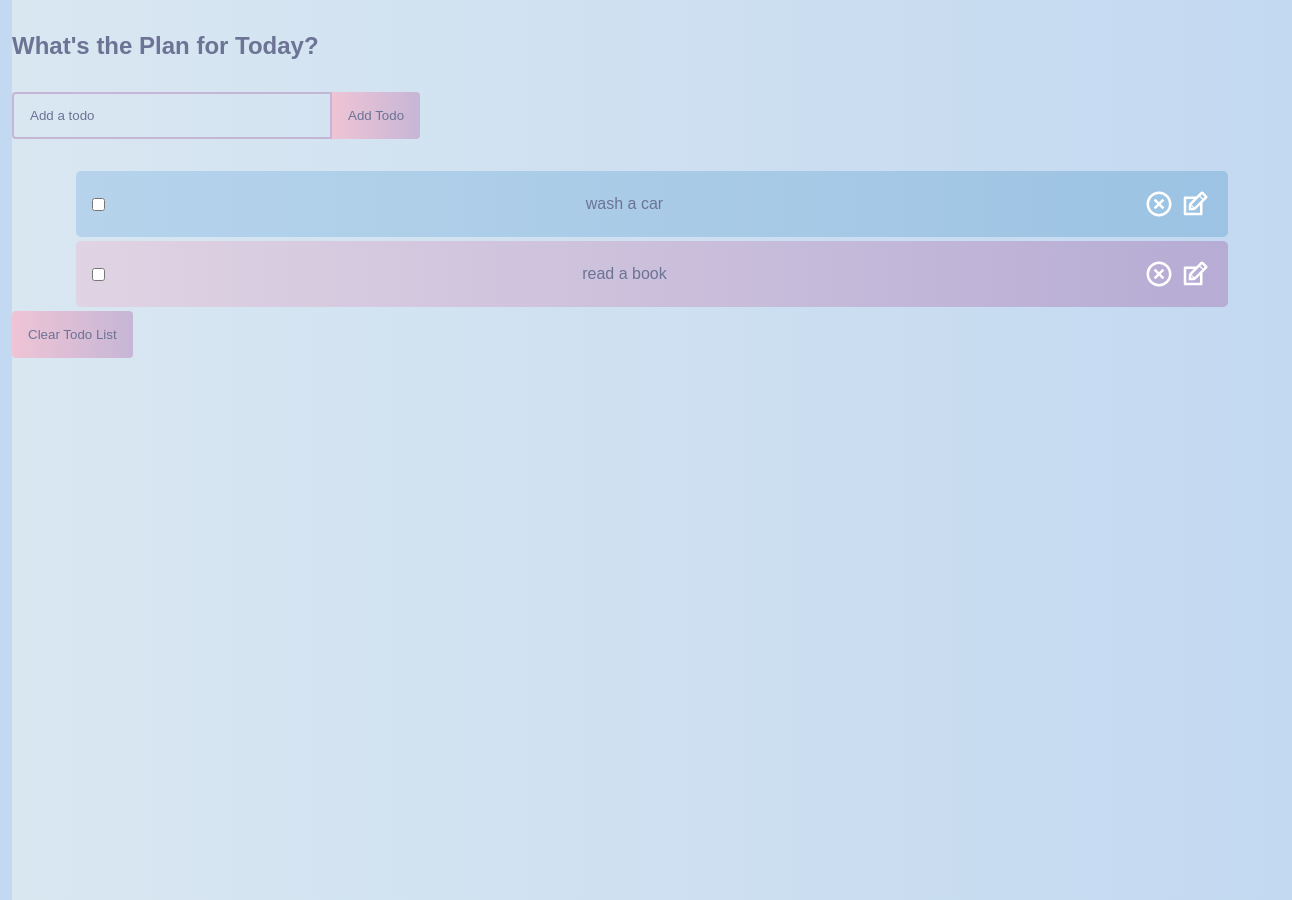
Edit existing task
Click the button named "edit" in the row of "wash a car" at x=1195, y=204, box left=1178, top=187, right=1212, bottom=221
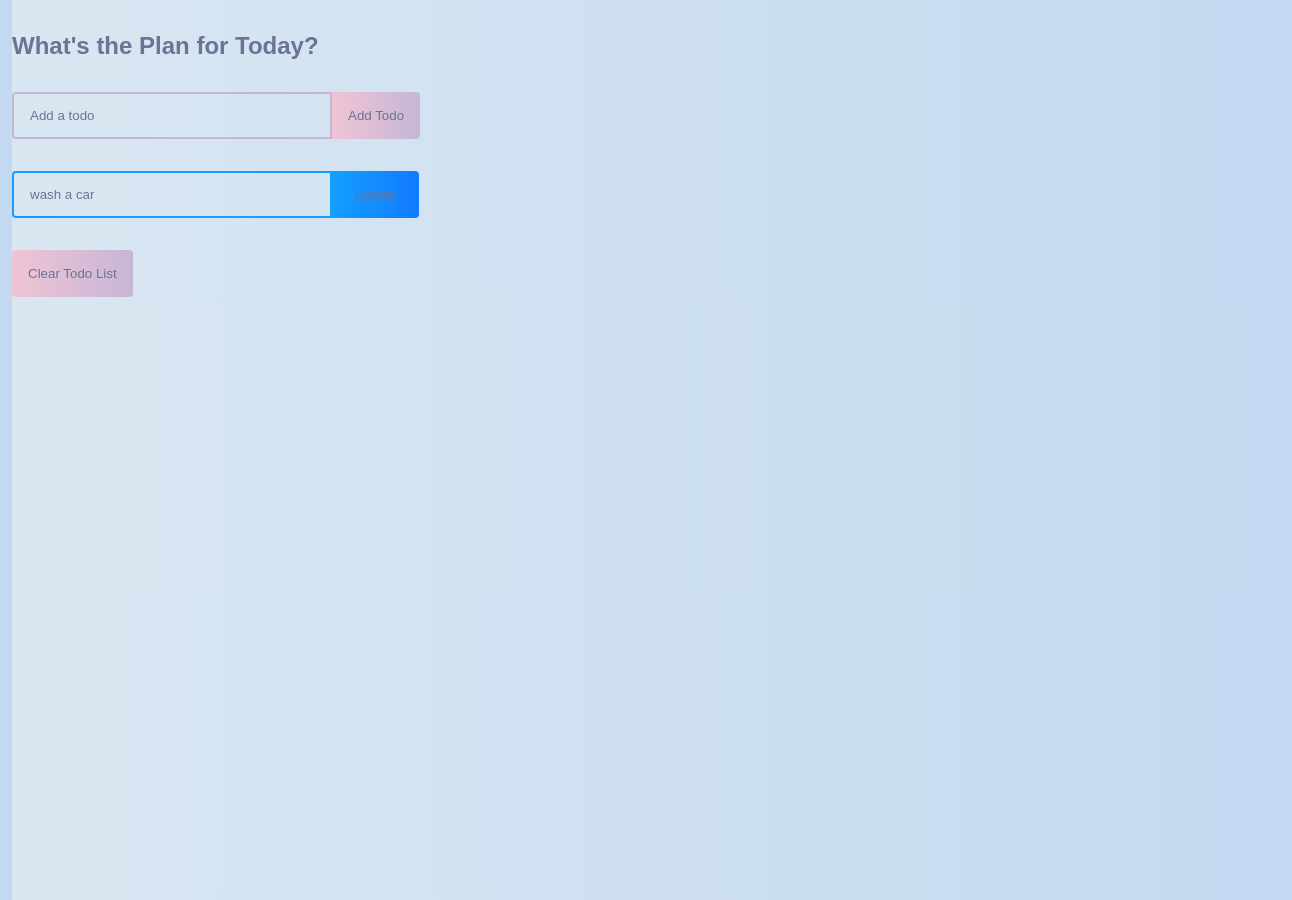
Type "read a good book" into the field named "edit todo" at x=172, y=194, box left=12, top=171, right=332, bottom=218
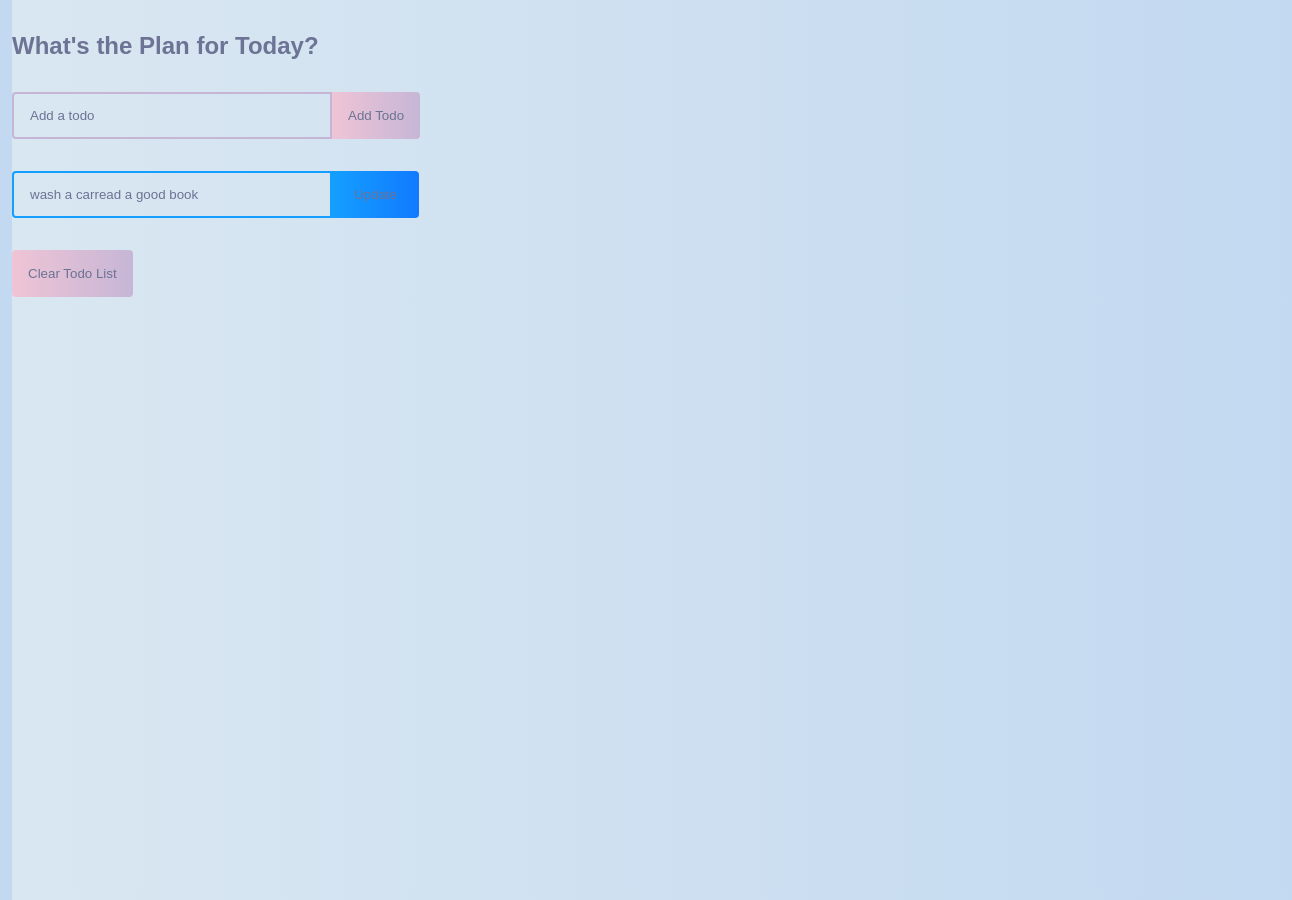
Click the button "Update" at x=376, y=194, box left=332, top=171, right=419, bottom=218
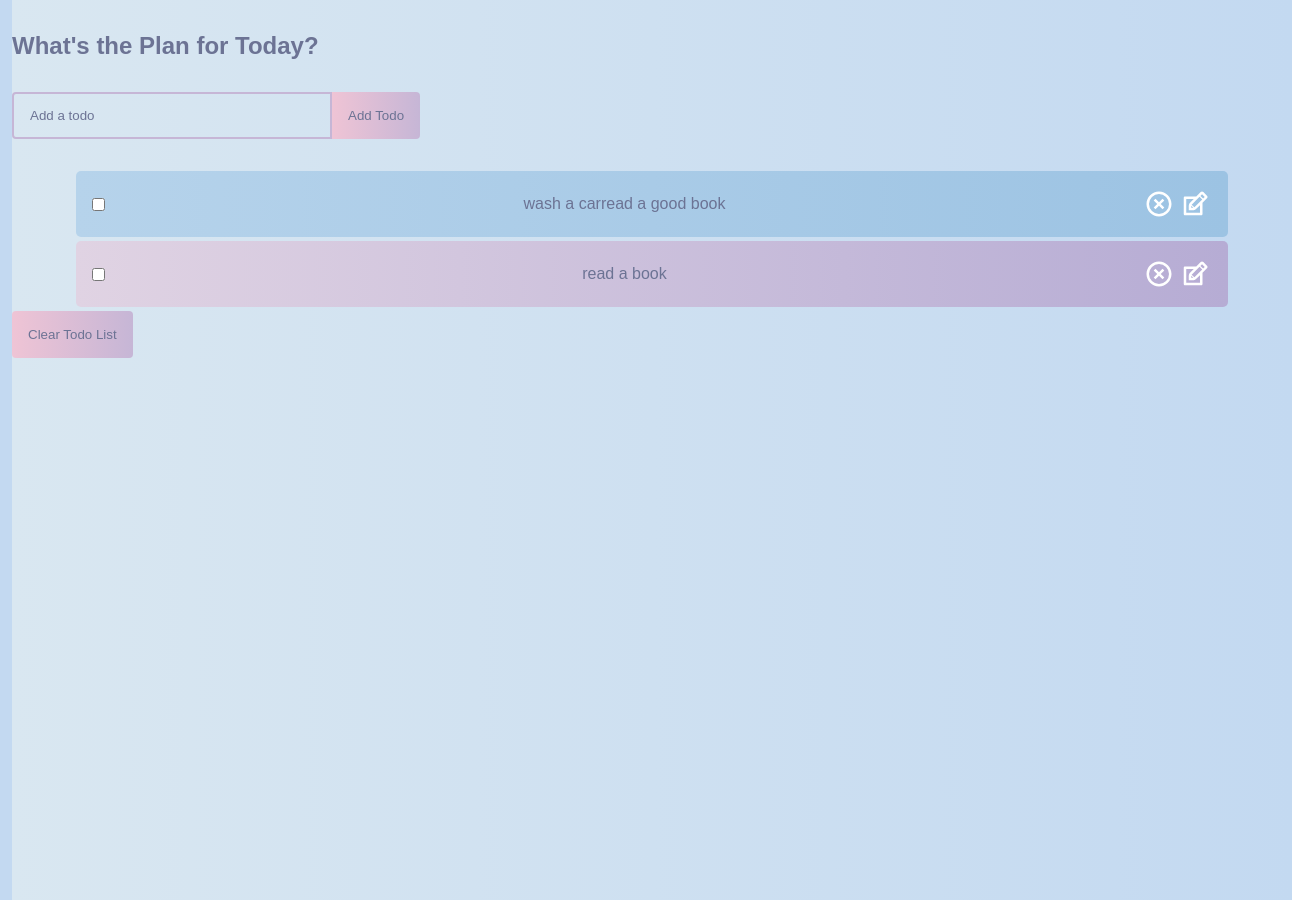
Now the checkbox labelled "read a good book" is shown, box left=92, top=198, right=105, bottom=210
